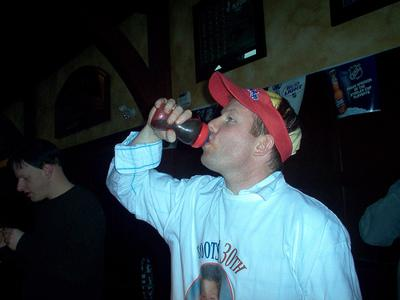person: (106, 70, 365, 300)
